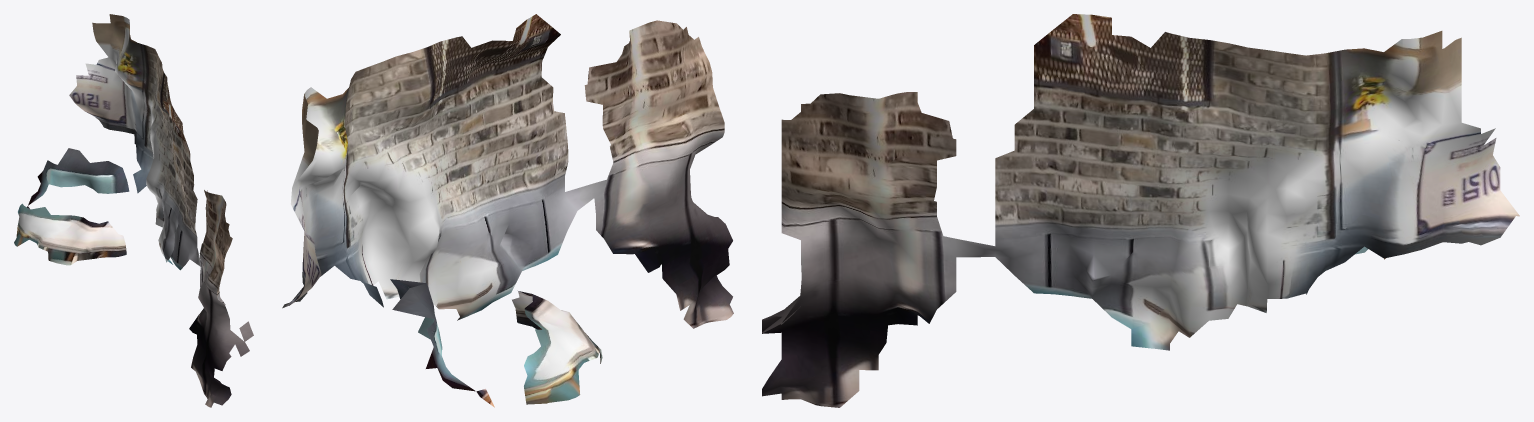
The model's file is 137371-Poly251113-tex 1.glb.
3 views of the same model, side by side, from view 1: azimuth 30°, elevation 25°; view 2: azimuth 150°, elevation 25°; view 3: azimuth 270°, elevation 25° (orthographic). The views are drawn at different scales.
Visible parts, largest first — view 1: Node; view 2: Node; view 3: Node.
Boxes of the visible parts, bbox=[...] form: Node: bbox=[14, 14, 253, 407]; Node: bbox=[282, 14, 733, 407]; Node: bbox=[762, 14, 1519, 407].
Bounding box in the file's own units: 0.7053 × 1.13 × 1.77.
1 material, 1 textured.
